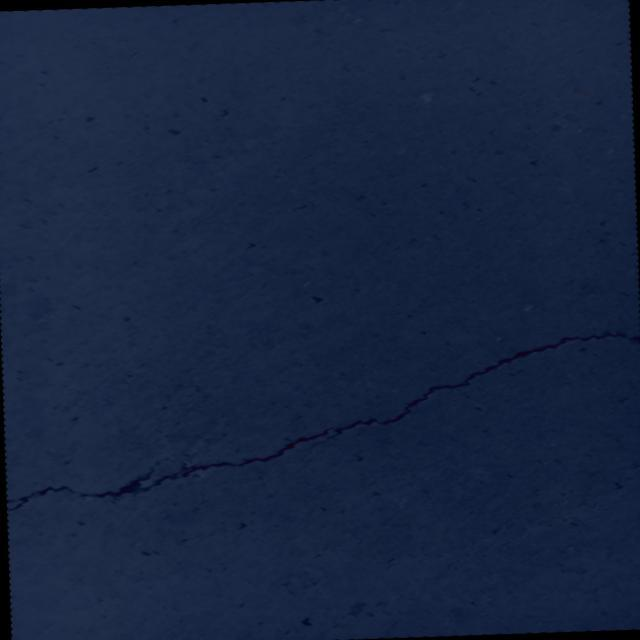crack: (1, 329, 640, 512)
